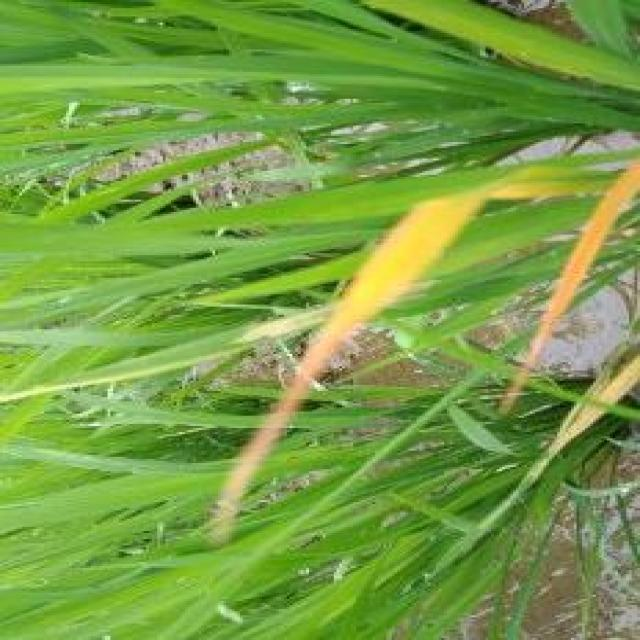Tungro: (194, 165, 464, 483), (505, 156, 640, 422)
